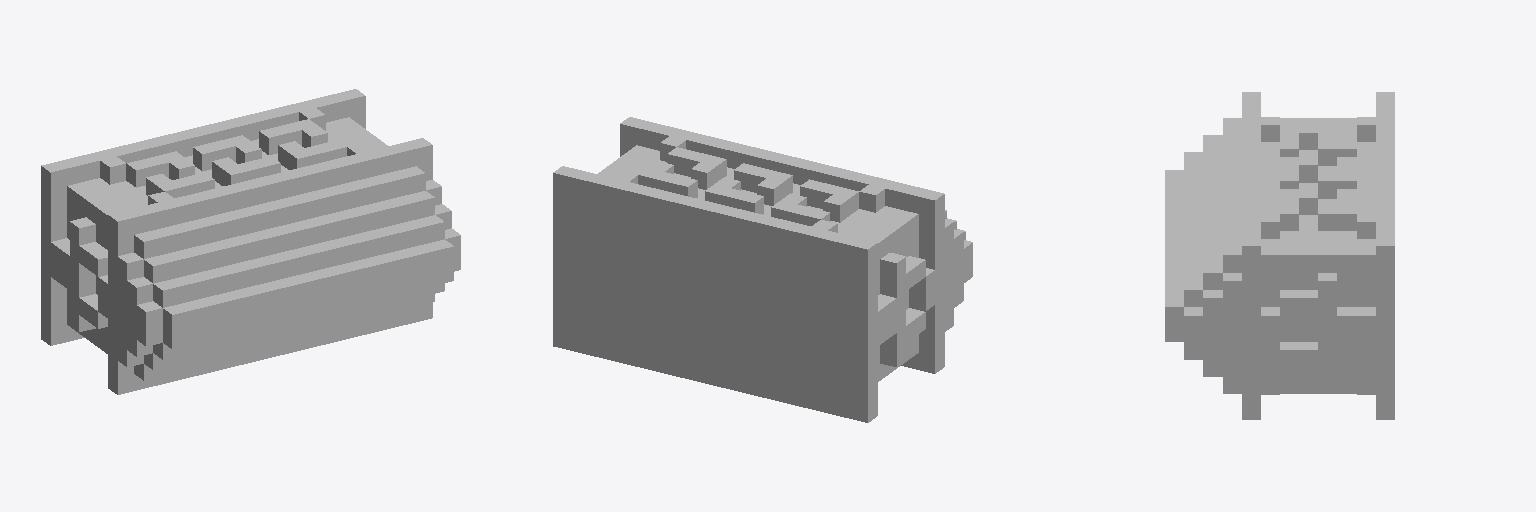
File: sarco.obj
3 views of the same model, side by side, from view 1: azimuth 30°, elevation 25°; view 2: azimuth 150°, elevation 25°; view 3: azimuth 270°, elevation 25° (orthographic).
Bounding box in the file's own units: 19 × 10 × 12.